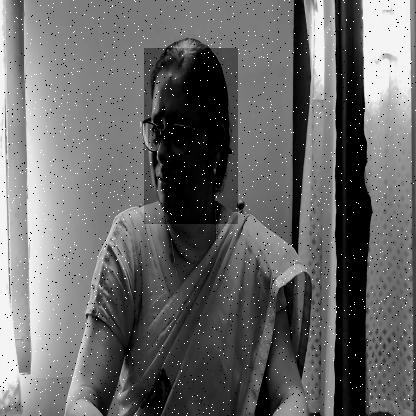Distracted: (144, 48, 238, 224)
